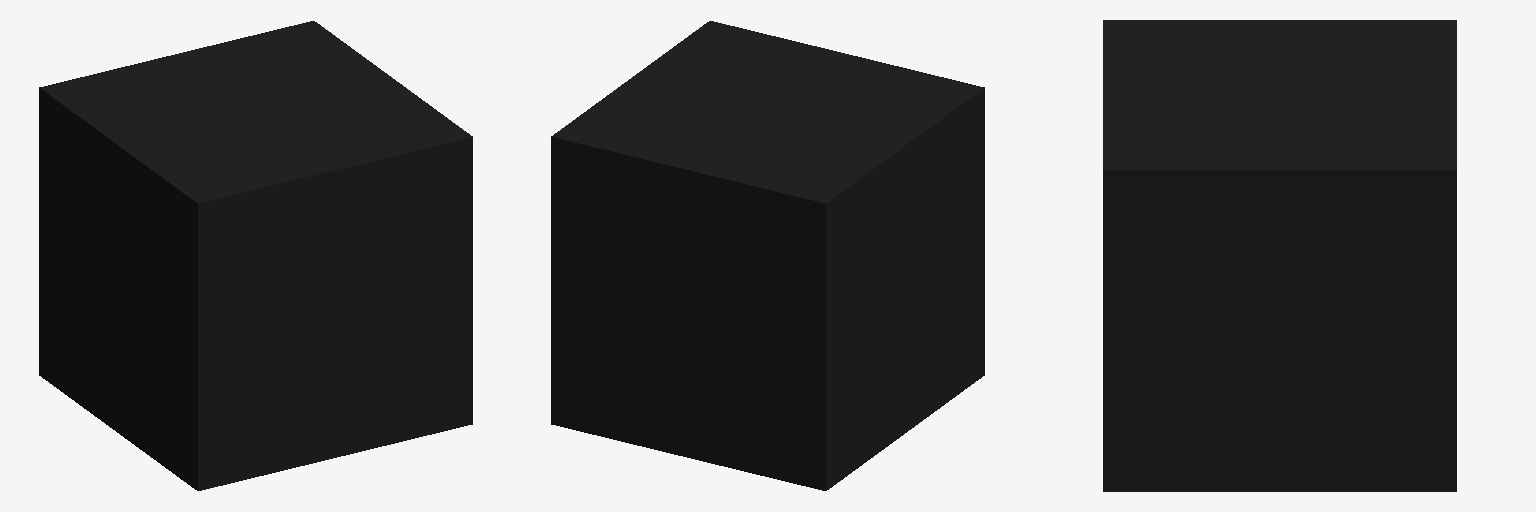
robot.urdf — shovel:
<?xml version="1.0"?>
<robot name="shovel" >

  <!-- Materials -->
  <material name="dark_grey"><color rgba="0.2 0.2 0.2 1.0" /></material>
  <material name="light_grey"><color rgba="0.4 0.4 0.4 1.0" /></material>
  <material name="yellow"><color rgba="0.8 0.8 0.0 1.0" /></material>
  <material name="black"><color rgba="0.15 0.15 0.15 1.0" /></material>
  <material name="blue"><color rgba="0 0 .8 1"/></material>

  <link name="base_link"></link>

  <!-- from base to pebbles -->
  <joint name="base_pebbles_joint" type="fixed">
    <origin xyz="0 0 0" rpy="0 0 0" />
    <parent link="base_link"/>
    <child link="pebbles_link" />
  </joint>

  <link name="pebbles_link">
    <visual>
      <origin xyz="0 0 0" rpy="0 0 0"/>
      <geometry>
        <!-- visual with box -->
        <!-- 2 cm side -->
        <box size="1e-2 1e-2 1e-2"/>
        <!-- visual with .stl (fancy style) -->
        <!-- <mesh filename="package://pebbles/files/Key_Rock_1.stl" scale="0.002 0.002 0.002"/> -->
      </geometry>
      <material name="black" />
    </visual>
    <collision>
      <origin xyz="0 0 0" rpy="0 0 0"/>
      <geometry>
        <!-- 2 cm side -->  
        <box size="1e-2 1e-2 1e-2"/>
      </geometry>
    </collision>
    <inertial>      
      <origin xyz="0 0 0" rpy="0 0 0"/>
      <!-- 2 grams -->
      <mass value="2e-3"/>
      <!-- ineetia (isotropic): m*l^2 -->
      <inertia
        ixx="2e-7" ixy="0.0" ixz="0.0" iyy="2e-7" iyz="0.0" izz="2e-7"/>
      </inertial>
  </link>
  
</robot>

--- What the picture shows (computed from the rendered views, not written in the file) ---
The picture shows the robot from 3 angles, left to right: view 1: azimuth 30°, elevation 25°; view 2: azimuth 150°, elevation 25°; view 3: azimuth 270°, elevation 25°; orthographic projection.
Model shovel with 2 links and 1 joints (1 fixed), rooted at base_link, posed every joint at zero.
Visible links, largest first — view 1: pebbles_link; view 2: pebbles_link; view 3: pebbles_link.
Boxes of the visible links, <box> form: pebbles_link: <box>39,21,472,490</box>; pebbles_link: <box>551,21,984,490</box>; pebbles_link: <box>1103,20,1456,491</box>.
Bounding box of the posed robot: 0.01 × 0.01 × 0.01 m (x, y, z).
Geometry: primitives only (box / cylinder / sphere), no mesh files.